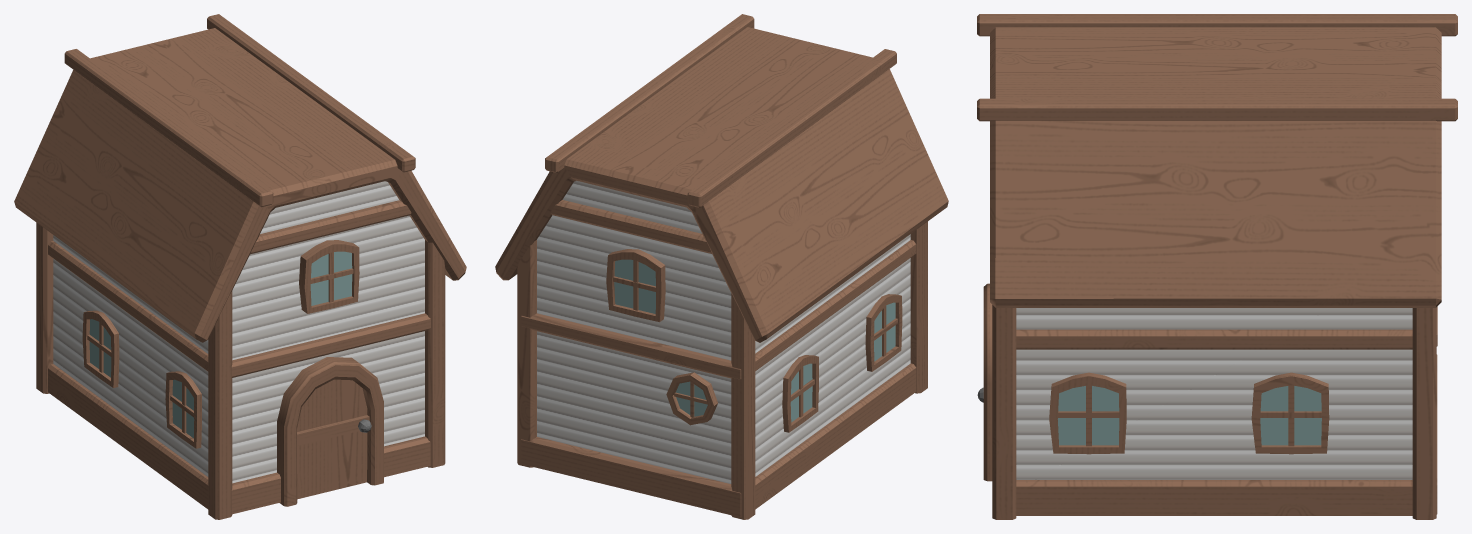
File: House.fbx
3 renders of one model, left to right at view 1: azimuth 30°, elevation 25°; view 2: azimuth 150°, elevation 25°; view 3: azimuth 270°, elevation 25°, orthographic. The views are drawn at different scales.
Visible parts, largest first — view 1: House; view 2: House; view 3: House.
Part boxes in pixels (box(x1,y1,x2,y2)): House: box(14, 14, 466, 519); House: box(495, 14, 948, 519); House: box(977, 14, 1457, 519).
Size of the model in its own units: 868 by 978 by 1087.
4 materials, 2 textured.
